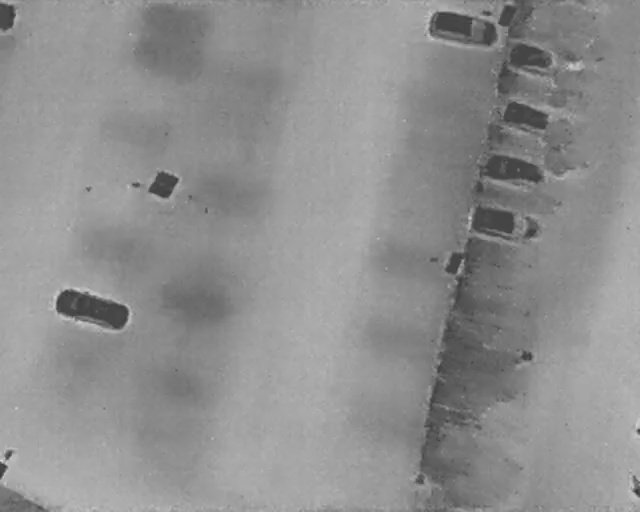Car: (51, 282, 134, 332), (427, 9, 500, 48), (468, 204, 542, 242), (499, 97, 562, 136), (484, 153, 546, 186), (507, 41, 565, 76)
